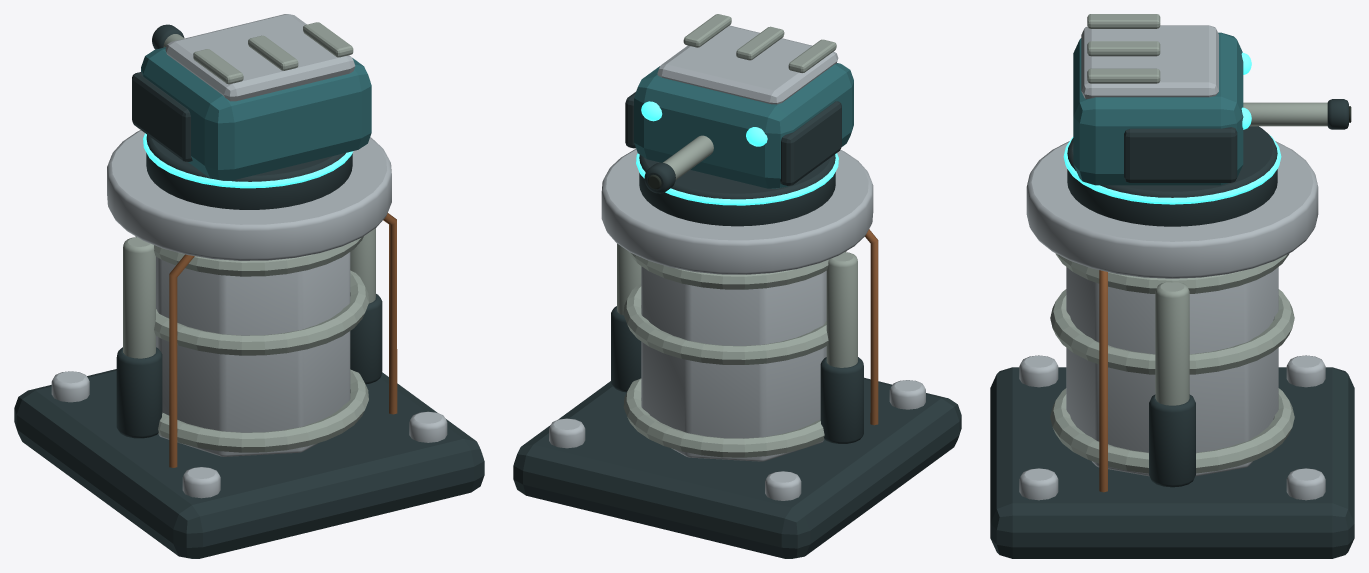
Rendered from battlecity-defense-turret.glb.
The picture shows the model from 3 angles, left to right: view 1: azimuth 30°, elevation 25°; view 2: azimuth 150°, elevation 25°; view 3: azimuth 270°, elevation 25°; orthographic projection. The views are drawn at different scales.
Visible parts, largest first — view 1: DX dark machinery, DX chrome, Brushed steel, DX teal armour Tracking turret head, DX chrome Tracking turret head, DX mine copper shell, DX dark machinery Tracking turret head, Brushed steel Tracking turret head, Command glow; view 2: DX dark machinery, DX chrome, Brushed steel, DX teal armour Tracking turret head, DX chrome Tracking turret head, DX dark machinery Tracking turret head, Brushed steel Tracking turret head, DX mine copper shell, Command glow, Brushed steel Turret barrel recoil, Command glow Tracking turret head, DX dark machinery Turret barrel recoil; view 3: DX dark machinery, DX chrome, Brushed steel, DX teal armour Tracking turret head, DX chrome Tracking turret head, DX dark machinery Tracking turret head, Brushed steel Tracking turret head, Brushed steel Turret barrel recoil, DX mine copper shell, Command glow, DX dark machinery Turret barrel recoil.
Boxes of the visible parts, bbox=[...] form: DX dark machinery: bbox=[14, 135, 484, 558]; DX chrome: bbox=[51, 130, 447, 498]; Brushed steel: bbox=[123, 228, 375, 452]; DX teal armour Tracking turret head: bbox=[141, 47, 371, 180]; DX chrome Tracking turret head: bbox=[165, 14, 355, 101]; DX mine copper shell: bbox=[169, 213, 397, 467]; DX dark machinery Tracking turret head: bbox=[132, 72, 192, 161]; Brushed steel Tracking turret head: bbox=[193, 22, 353, 84]; Command glow: bbox=[143, 133, 353, 188]; DX dark machinery: bbox=[513, 154, 961, 558]; DX chrome: bbox=[549, 149, 925, 500]; Brushed steel: bbox=[617, 243, 857, 457]; DX teal armour Tracking turret head: bbox=[634, 63, 853, 188]; DX chrome Tracking turret head: bbox=[657, 25, 838, 104]; DX dark machinery Tracking turret head: bbox=[625, 92, 841, 185]; Brushed steel Tracking turret head: bbox=[683, 14, 836, 73]; DX mine copper shell: bbox=[865, 229, 878, 425]; Command glow: bbox=[636, 153, 838, 205]; Brushed steel Turret barrel recoil: bbox=[663, 135, 713, 179]; Command glow Tracking turret head: bbox=[641, 101, 767, 146]; DX dark machinery Turret barrel recoil: bbox=[644, 162, 675, 193]; DX dark machinery: bbox=[990, 126, 1354, 558]; DX chrome: bbox=[1019, 141, 1325, 500]; Brushed steel: bbox=[1050, 253, 1294, 473]; DX teal armour Tracking turret head: bbox=[1073, 32, 1243, 185]; DX chrome Tracking turret head: bbox=[1081, 25, 1218, 99]; DX dark machinery Tracking turret head: bbox=[1124, 127, 1237, 182]; Brushed steel Tracking turret head: bbox=[1087, 14, 1160, 83]; Brushed steel Turret barrel recoil: bbox=[1243, 102, 1327, 126]; DX mine copper shell: bbox=[1099, 270, 1107, 492]; Command glow: bbox=[1063, 135, 1281, 204]; DX dark machinery Turret barrel recoil: bbox=[1327, 99, 1348, 129].
Bounding box in the file's own units: 0.9 × 1.22 × 0.9.
